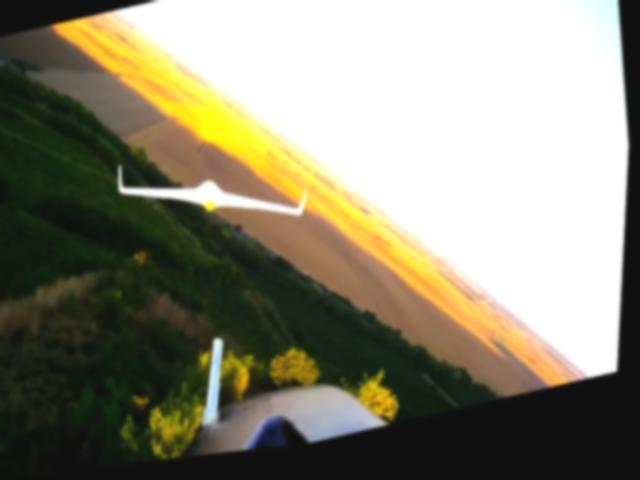plane: (115, 128, 316, 259)
